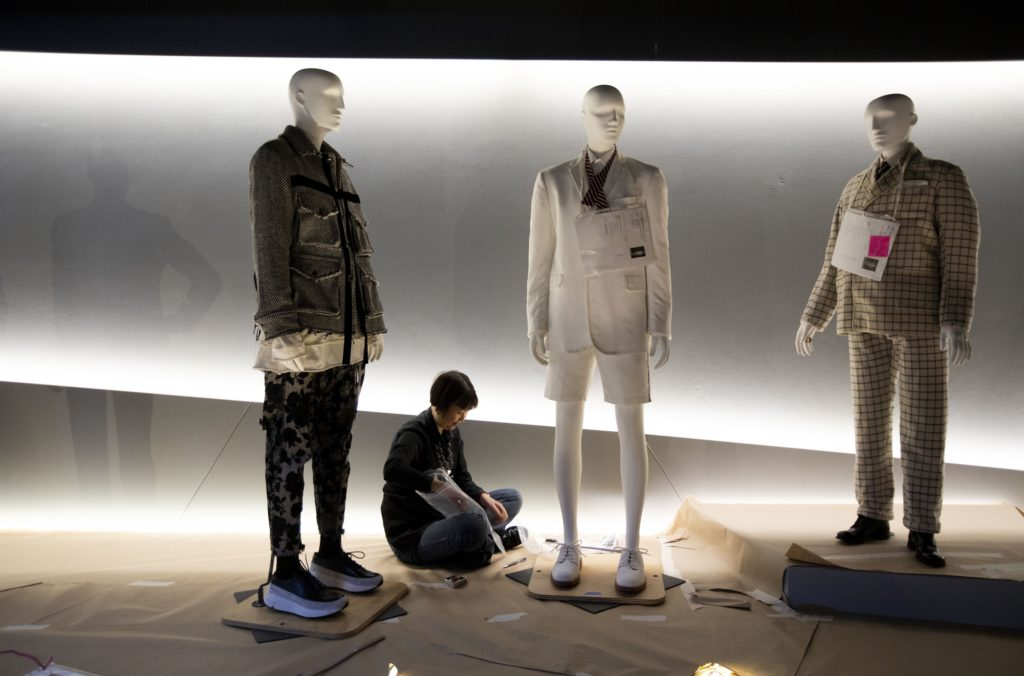person: (377, 362, 536, 586)
person-like: (786, 85, 993, 577), (515, 77, 683, 598), (240, 62, 395, 624)
